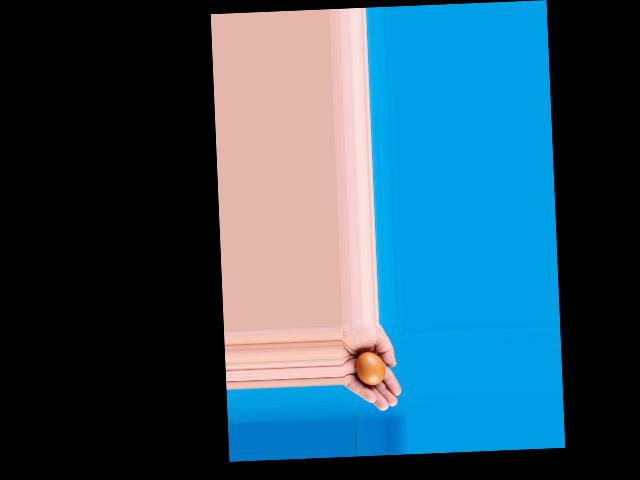egg: (355, 351, 385, 386)
